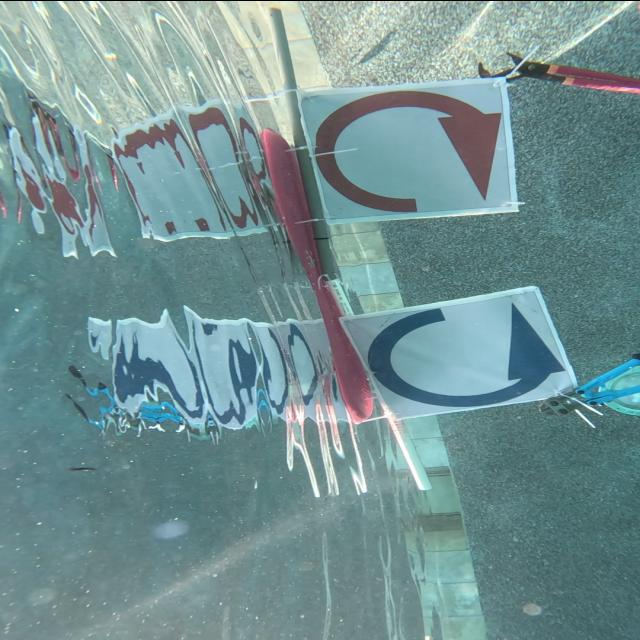blue_side: (362, 296, 574, 409)
red_side: (308, 90, 512, 210)
